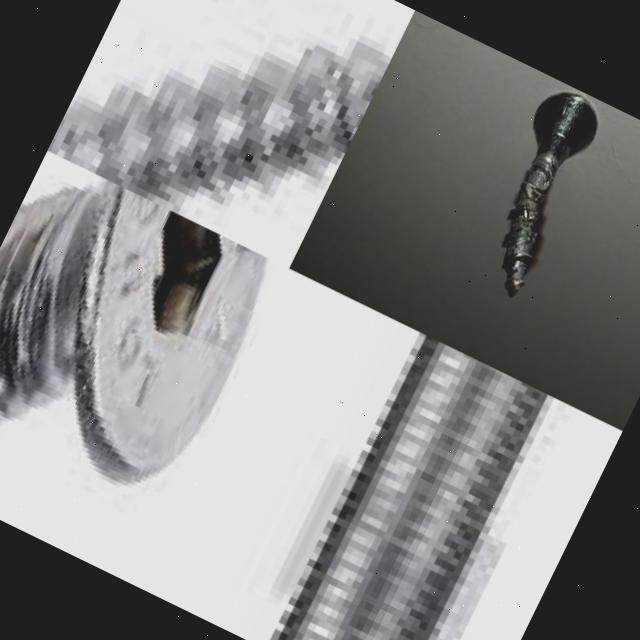Screw: (269, 332, 553, 640), (0, 179, 266, 484), (47, 41, 391, 215), (501, 94, 596, 299)
